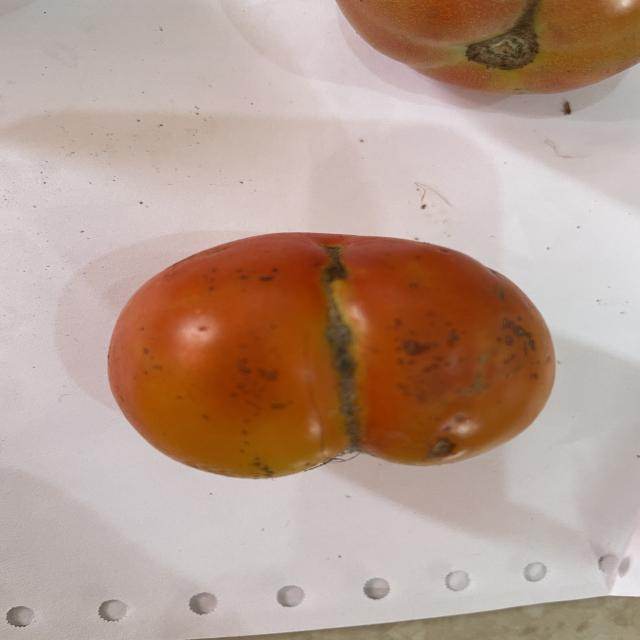tomato_cracking: (308, 238, 376, 461)
